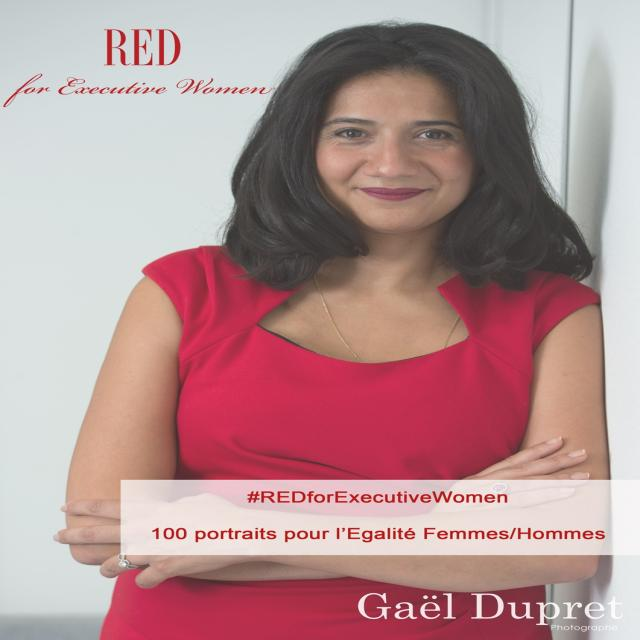human: (52, 19, 640, 640)
